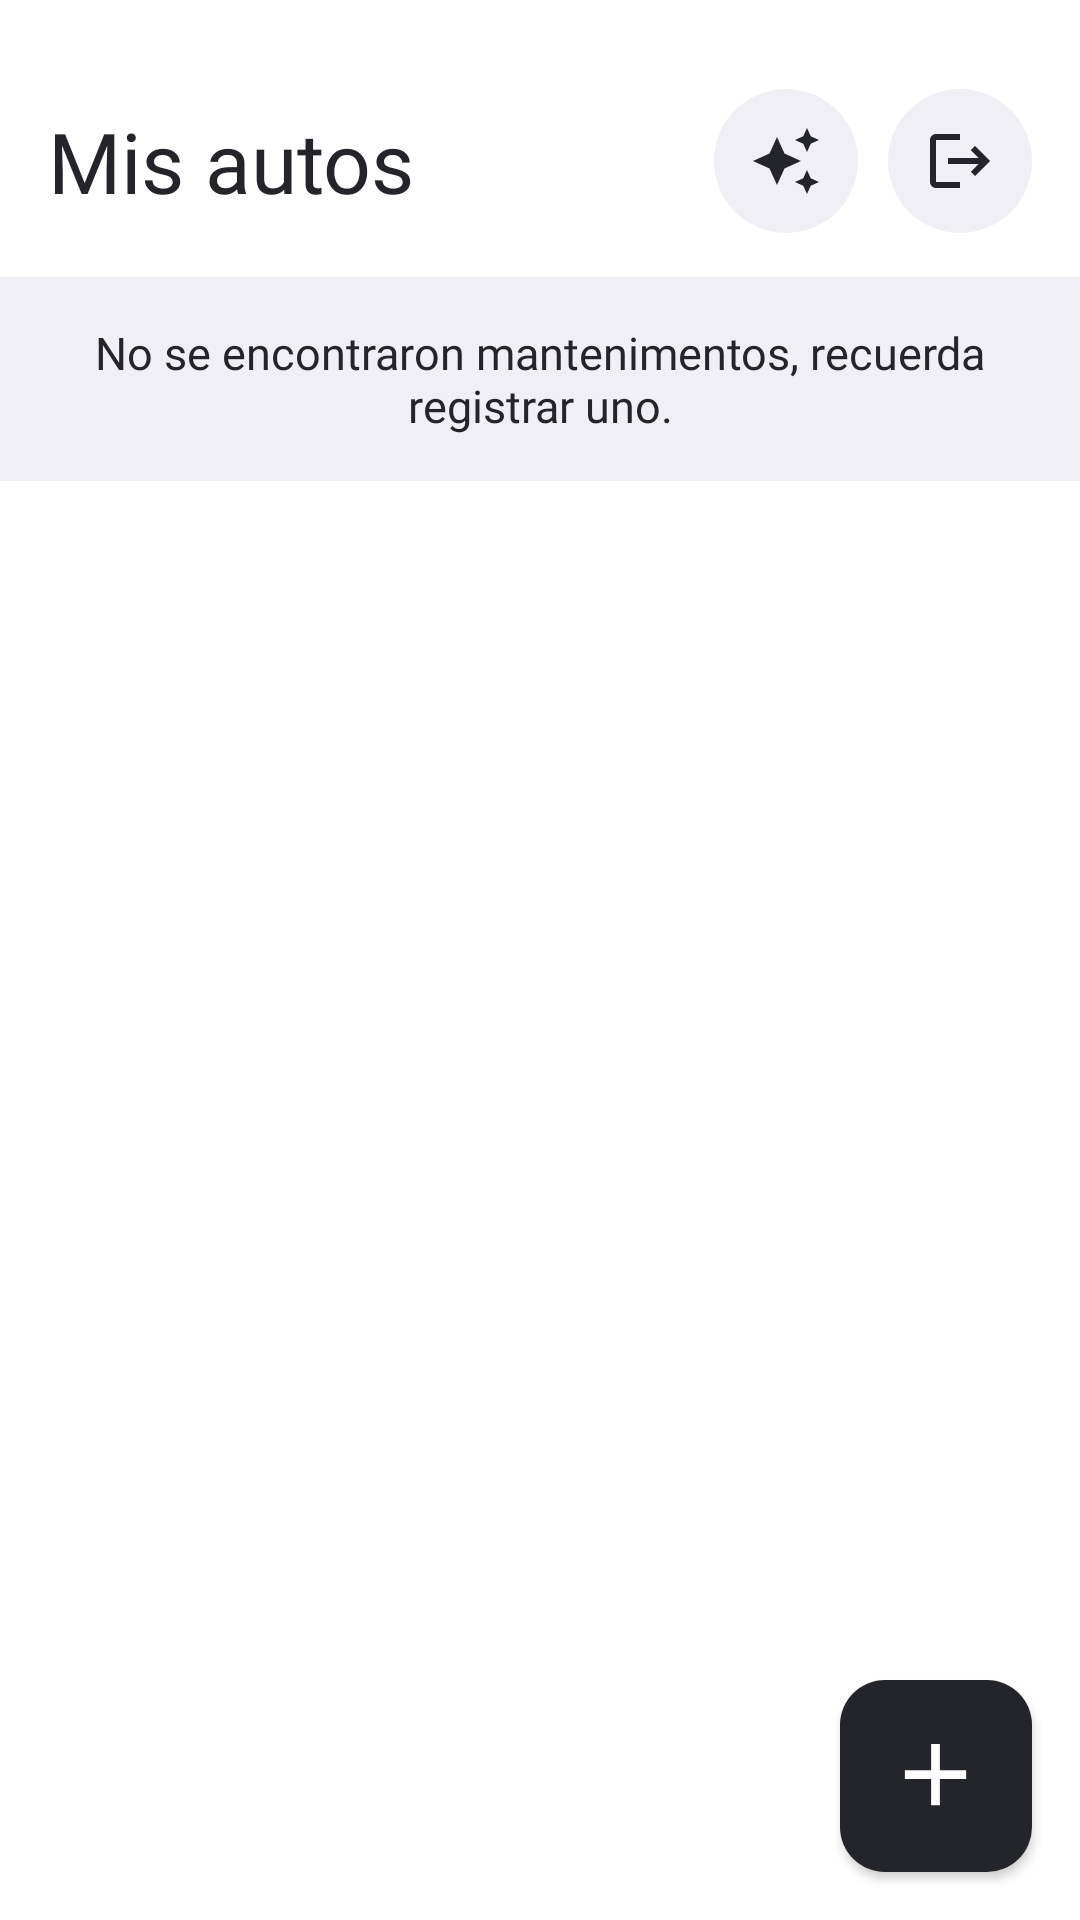

Named icons in this screenshot (1080px x 1920px) and their centers, (x=x, y=y):
Boton de IA: (x=786, y=161)
